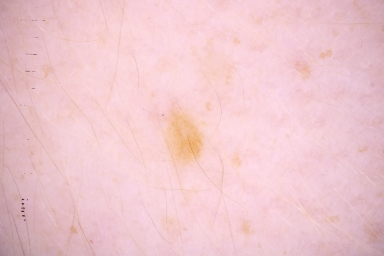nevus: (168, 111, 204, 172)
